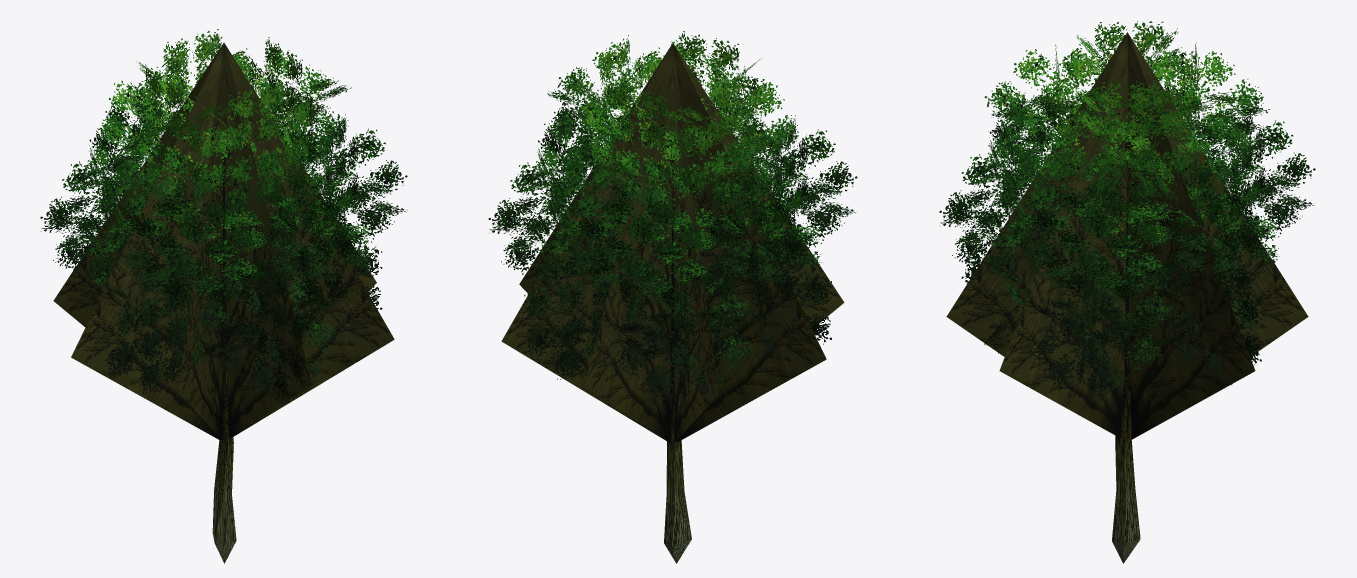
File: iep_3.fbx
The picture shows the model from 3 angles, left to right: view 1: azimuth 30°, elevation 25°; view 2: azimuth 150°, elevation 25°; view 3: azimuth 270°, elevation 25°; orthographic projection. The views are drawn at different scales.
Parts seen in each view (by area): view 1: iep_3; view 2: iep_3; view 3: iep_3.
Boxes of the visible parts, x1=… form: iep_3: x1=40, y1=29, x2=407, y2=563; iep_3: x1=488, y1=31, x2=857, y2=563; iep_3: x1=939, y1=21, x2=1315, y2=563.
Bounding box in the file's own units: 1376 × 1880 × 1376.
